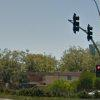Traffic light: (64, 7, 98, 56)
